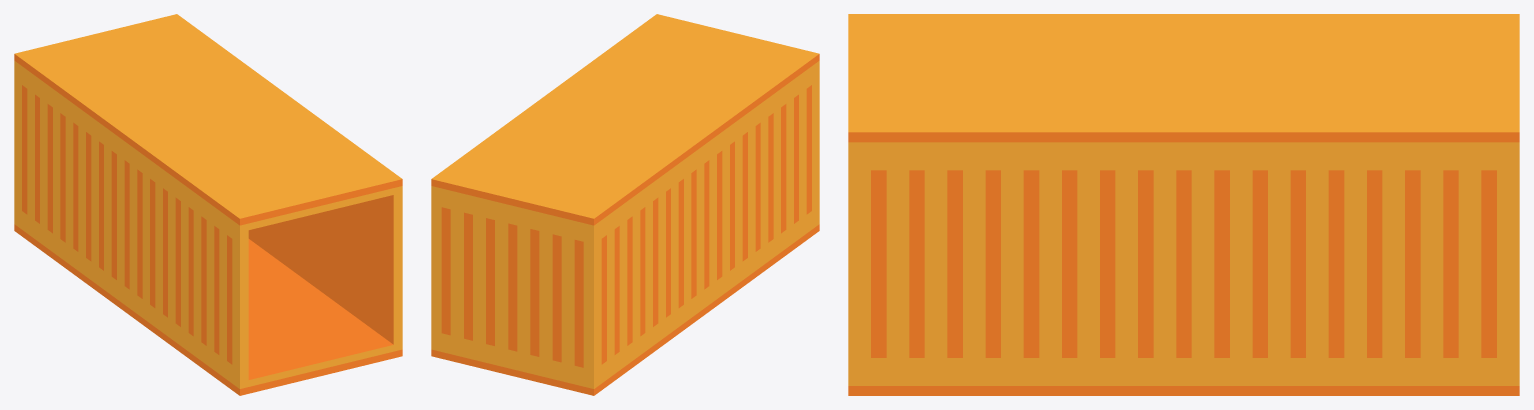
File: cargo-shipping-base_orange.glb
3 views of the same model, side by side, from view 1: azimuth 30°, elevation 25°; view 2: azimuth 150°, elevation 25°; view 3: azimuth 270°, elevation 25° (orthographic). The views are drawn at different scales.
Parts seen in each view (by area): view 1: cargo-shipping-base_orange; view 2: cargo-shipping-base_orange; view 3: cargo-shipping-base_orange.
Boxes of the visible parts, x1,y1,x2,y2 form: cargo-shipping-base_orange: (14, 14, 402, 395); cargo-shipping-base_orange: (431, 14, 819, 395); cargo-shipping-base_orange: (848, 14, 1519, 395).
Bounding box in the file's own units: 2.5 × 2.6 × 6.
1 material, 1 textured.
